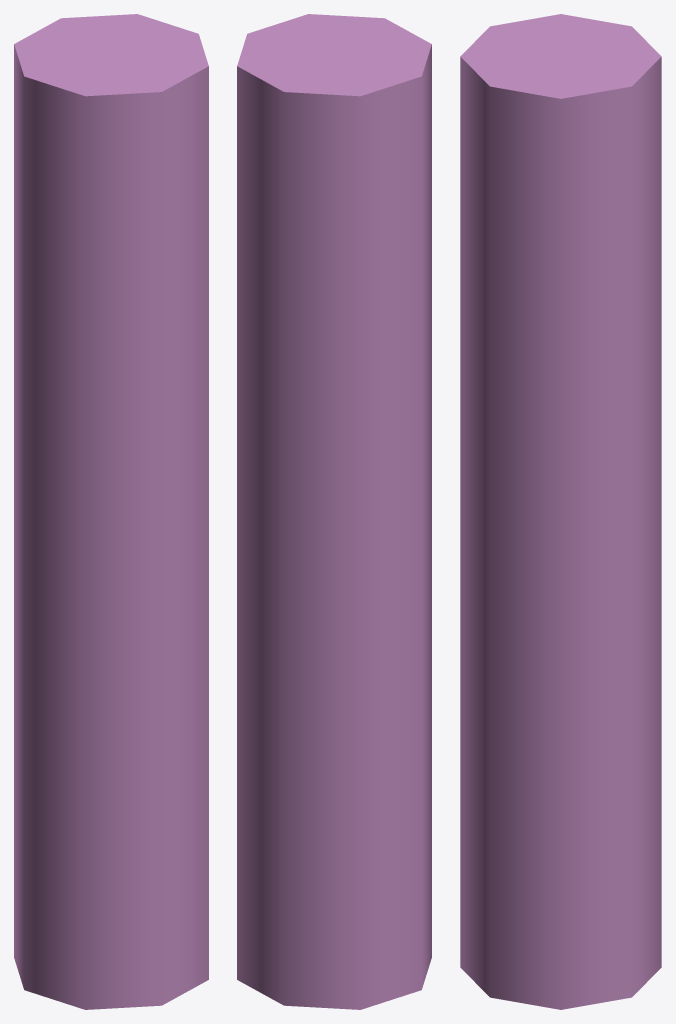
Rendered from tree_mushroom_01.glb.
The picture shows the model from 3 angles, left to right: view 1: azimuth 30°, elevation 25°; view 2: azimuth 150°, elevation 25°; view 3: azimuth 270°, elevation 25°; orthographic projection.
Visible parts, largest first — view 1: tree_mushroom; view 2: tree_mushroom; view 3: tree_mushroom.
Boxes of the visible parts, <box> form: tree_mushroom: <box>14,14,208,1009</box>; tree_mushroom: <box>237,14,431,1009</box>; tree_mushroom: <box>460,14,661,1009</box>.
Bounding box in the file's own units: 0.8 × 4 × 0.8.
